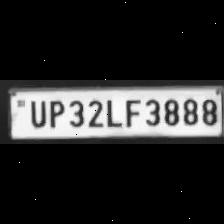2: (86, 96, 104, 128)
3: (65, 96, 85, 128), (141, 96, 161, 127)
8: (160, 96, 180, 126), (198, 96, 218, 126), (180, 96, 198, 126)
F: (122, 96, 140, 127)
L: (104, 96, 122, 127)
P: (46, 98, 64, 128)
U: (26, 98, 46, 128)
